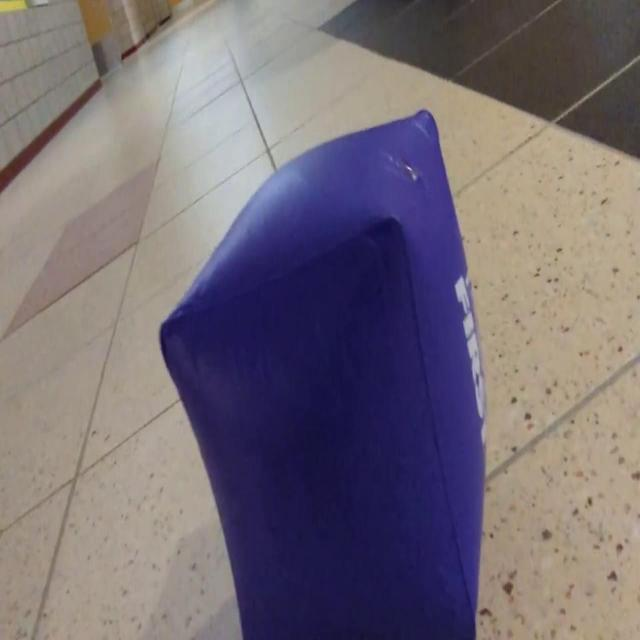frc_cube: (158, 109, 486, 640)
